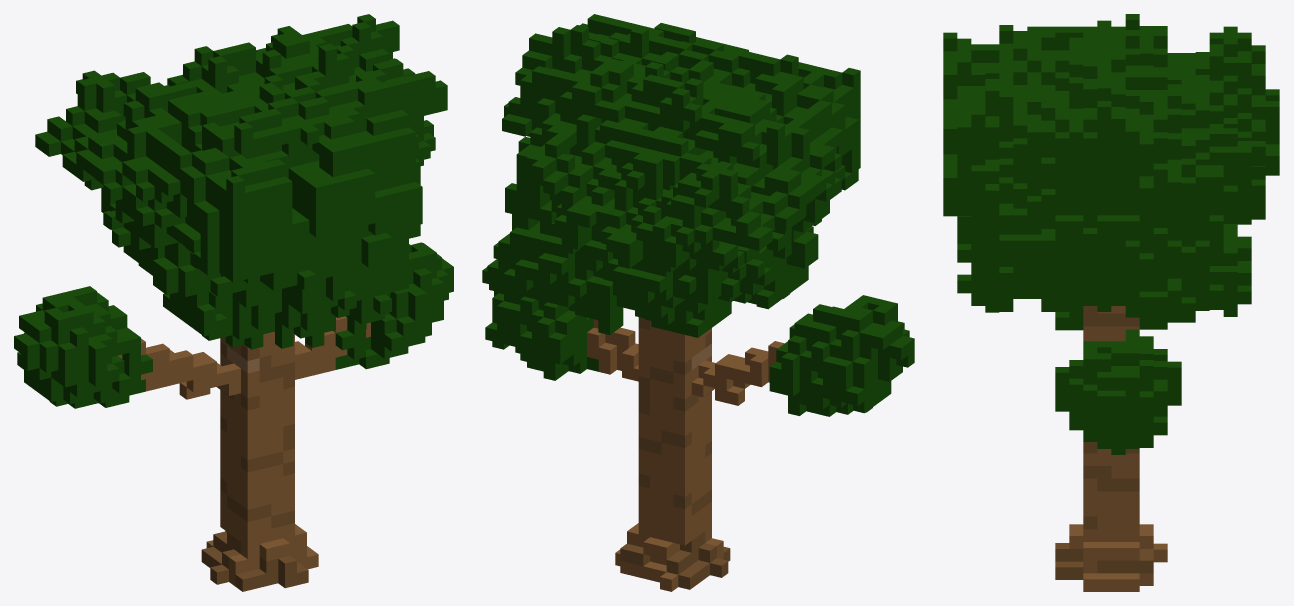
The model's file is Arbol04.obj.
The picture shows the model from 3 angles, left to right: view 1: azimuth 30°, elevation 25°; view 2: azimuth 150°, elevation 25°; view 3: azimuth 270°, elevation 25°; orthographic projection. The views are drawn at different scales.
Bounding box in the file's own units: 3.6 × 4.2 × 2.4.
Materials: 1 (1 with a texture image).
